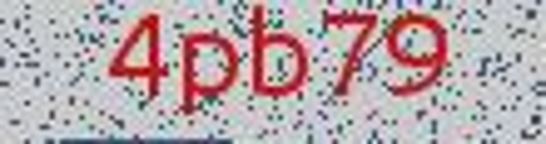4: (102, 3, 172, 108)
7: (317, 4, 385, 99)
9: (385, 6, 453, 104)
b: (242, 2, 312, 110)
p: (175, 28, 238, 124)
